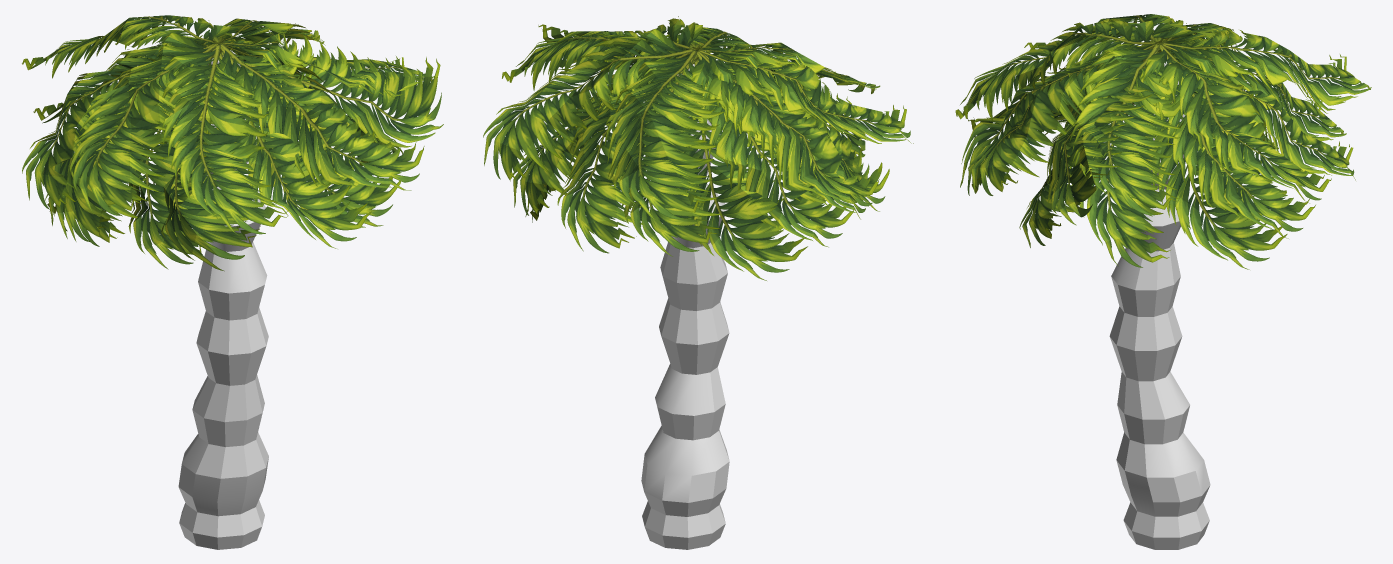
Rendered from hareket edecek palmiye ağacı.fbx.
The picture shows the model from 3 angles, left to right: view 1: azimuth 30°, elevation 25°; view 2: azimuth 150°, elevation 25°; view 3: azimuth 270°, elevation 25°; orthographic projection. The views are drawn at different scales.
Visible parts, largest first — view 1: Icosphere; view 2: Icosphere; view 3: Icosphere.
Part boxes in pixels (x1,y1,x2,y2): Icosphere: (22,15,443,549); Icosphere: (483,16,913,549); Icosphere: (955,14,1371,549).
Bounding box in the file's own units: 120 × 150 × 118.
2 materials, 1 textured.
